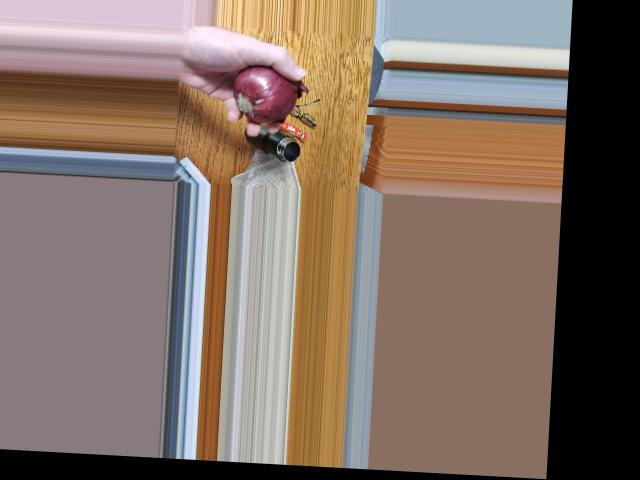onion: (246, 71, 296, 120)
